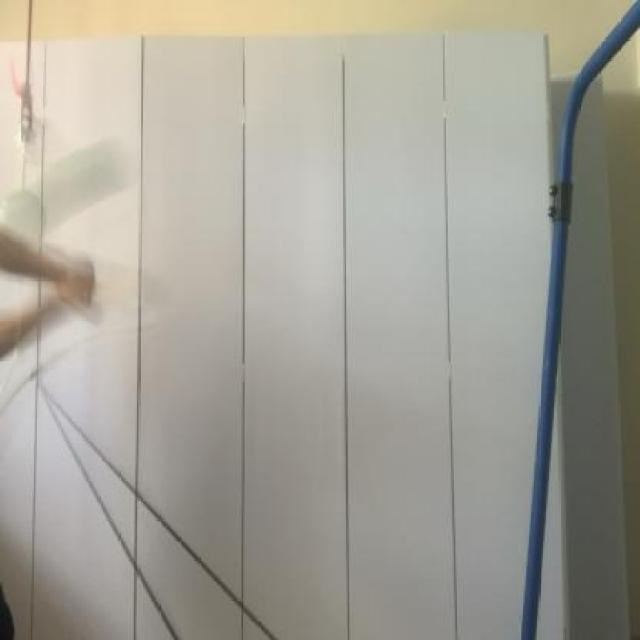baseball: (6, 137, 134, 251)
